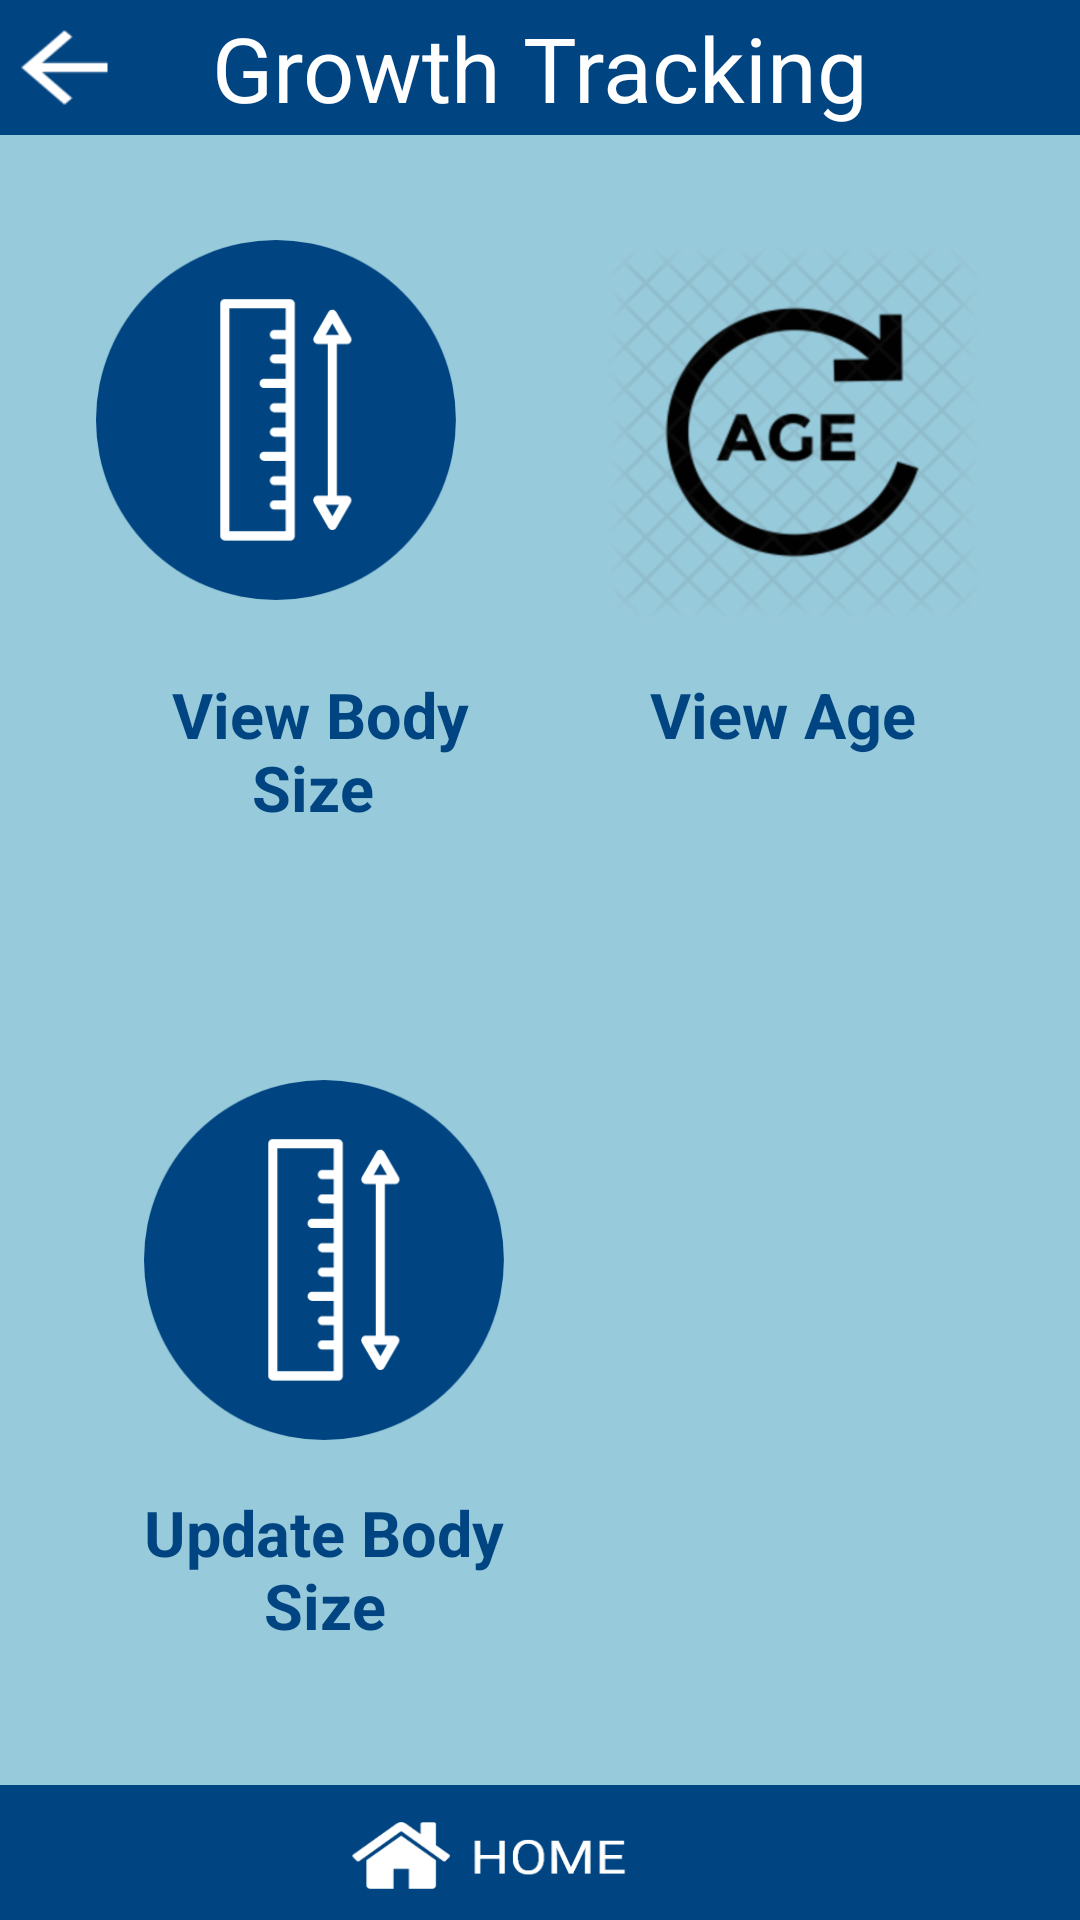

Locate icon controls on the screen. Image size 1080x1920, boxes as {"x1": x1, "y1": y1, "x2": x2, "y2": y2}.
back: {"x1": 21, "y1": 30, "x2": 108, "y2": 105}
lenght: {"x1": 96, "y1": 240, "x2": 456, "y2": 600}, {"x1": 144, "y1": 1080, "x2": 504, "y2": 1440}
